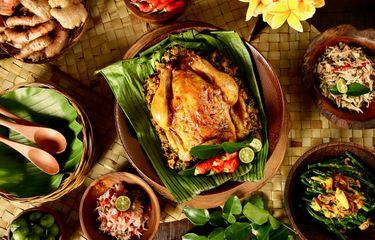ayam_betutu: (147, 47, 263, 170)
